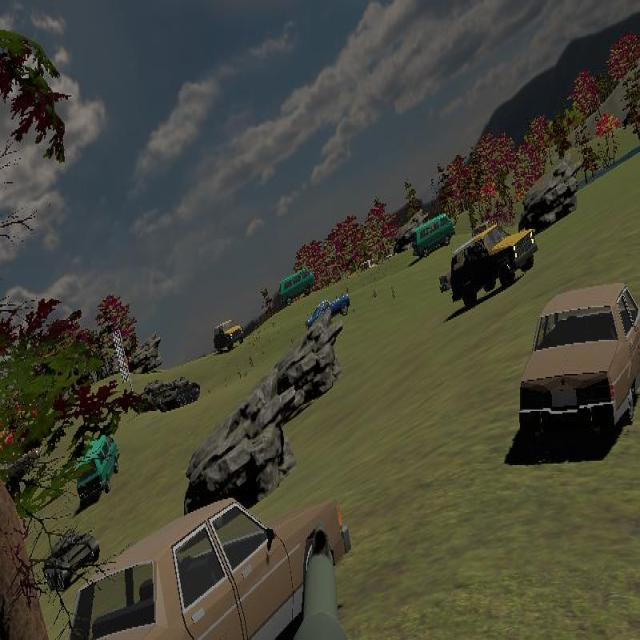Tank: (40, 527, 100, 592), (131, 375, 200, 413)
car: (63, 496, 354, 640), (520, 284, 640, 447), (519, 284, 639, 445), (450, 225, 537, 307), (76, 432, 119, 504), (76, 433, 119, 504), (413, 212, 455, 258), (305, 294, 350, 333), (306, 297, 348, 333), (278, 269, 313, 307), (214, 319, 244, 353)
